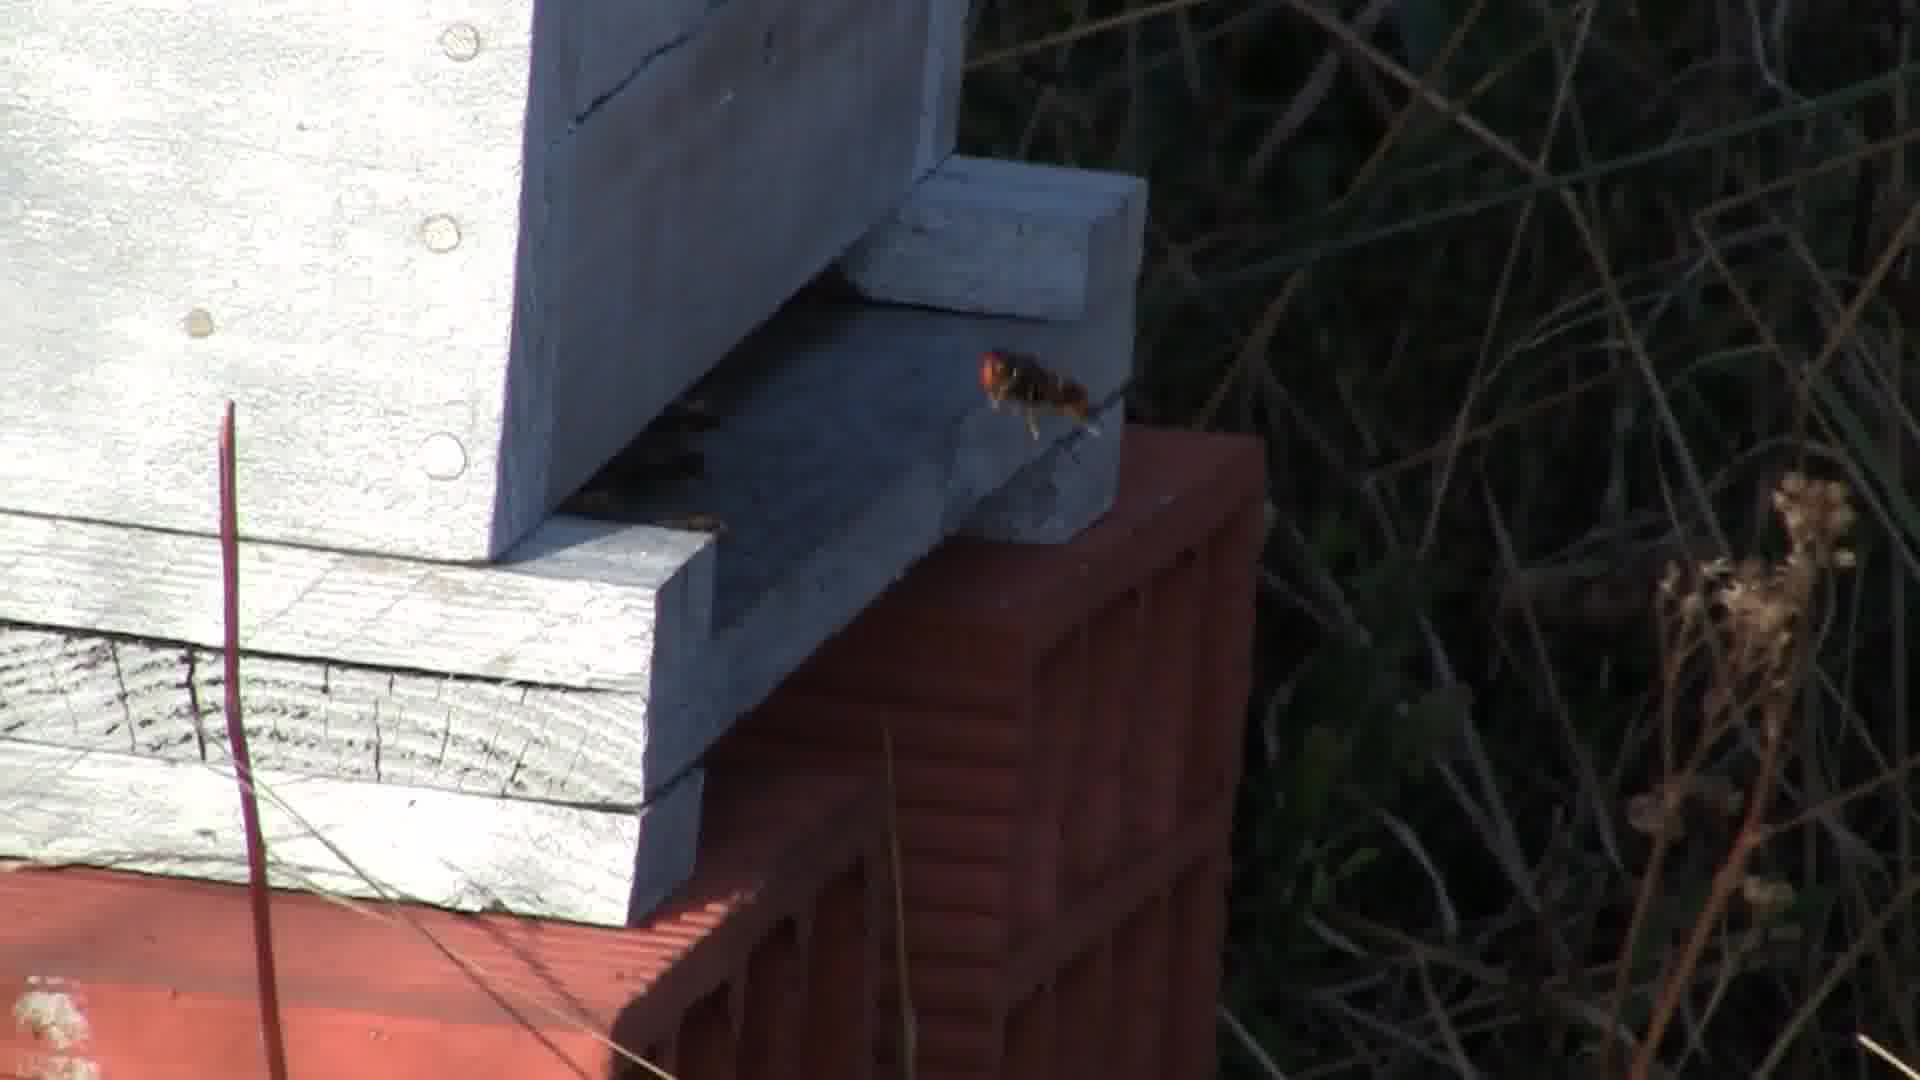hornet: (960, 335, 1112, 451)
